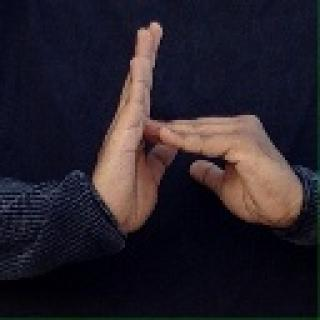Z: (114, 4, 268, 237)
